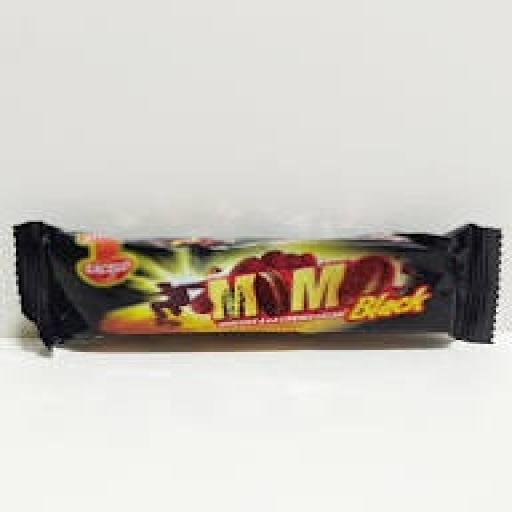MOMO: (2, 184, 512, 390)
